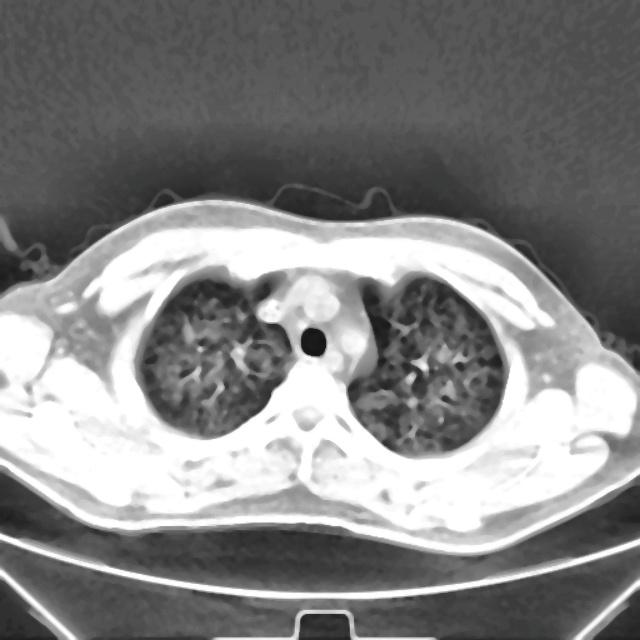covid: (0, 192, 639, 556)
